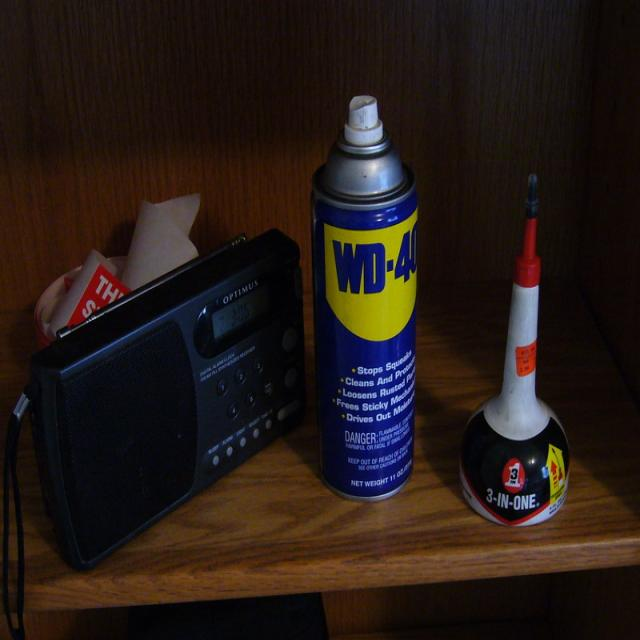container -bottle: (312, 96, 417, 500), (460, 175, 569, 524)
